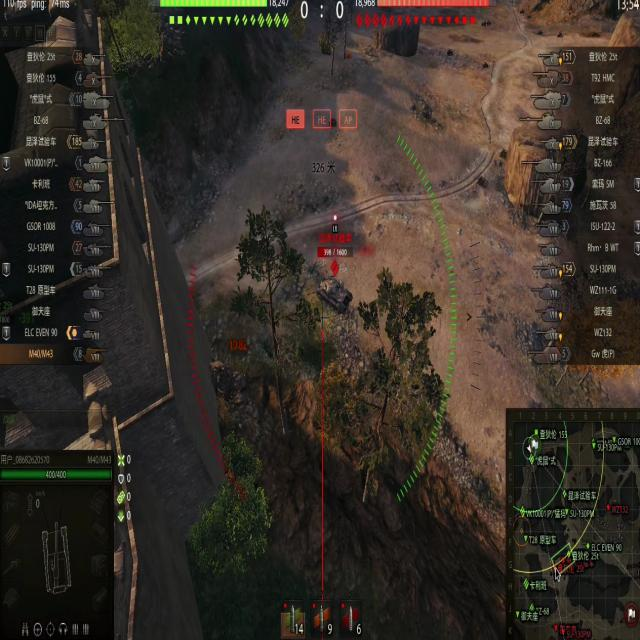tank: (318, 241, 358, 315)
